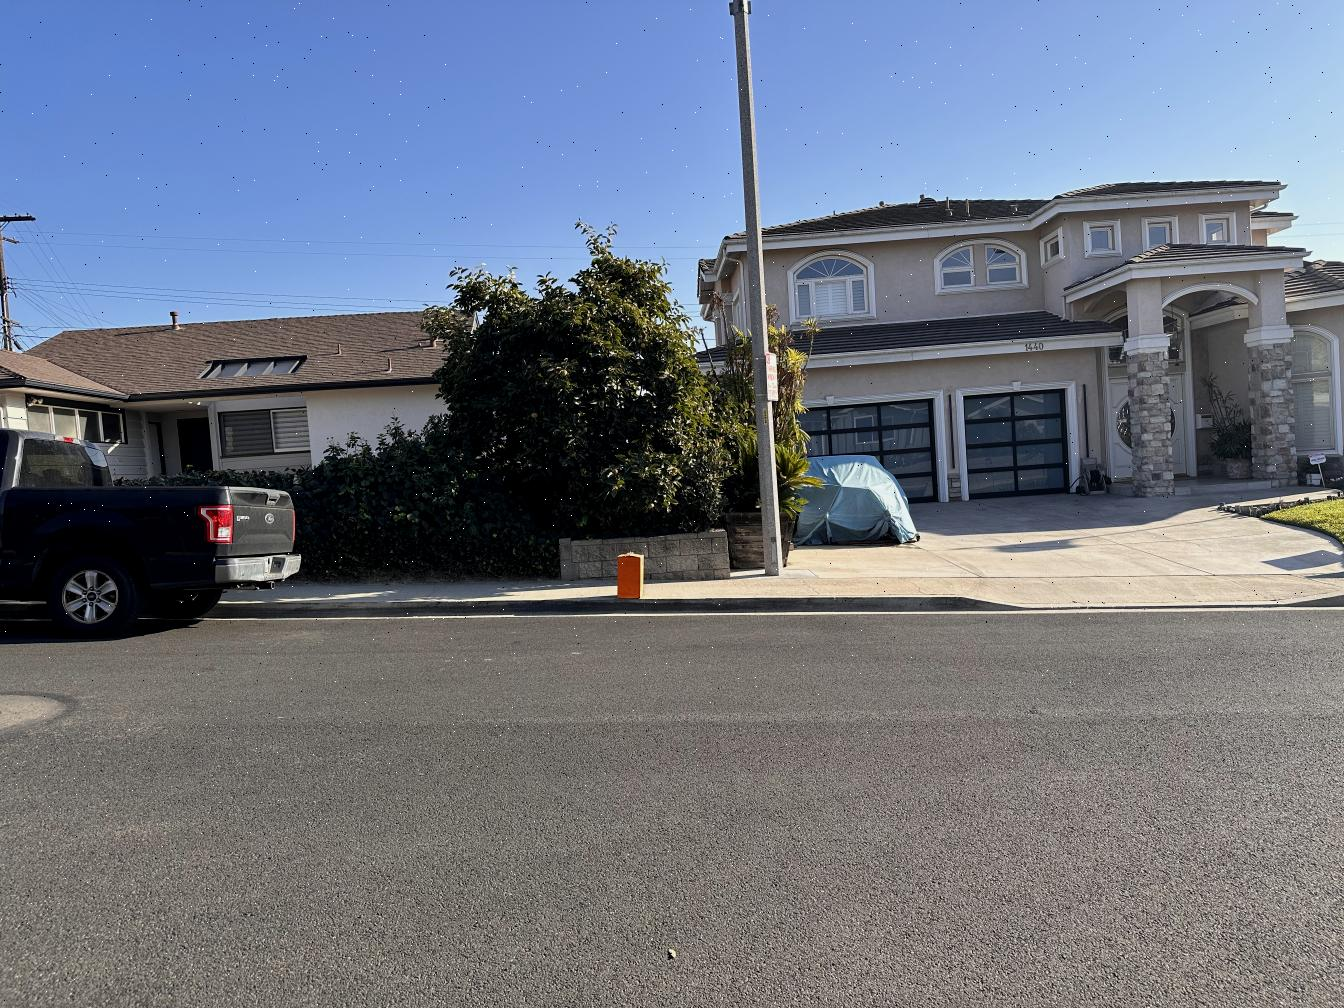curbs-laRr: (304, 598, 970, 622)
orange box: (618, 554, 643, 597)
